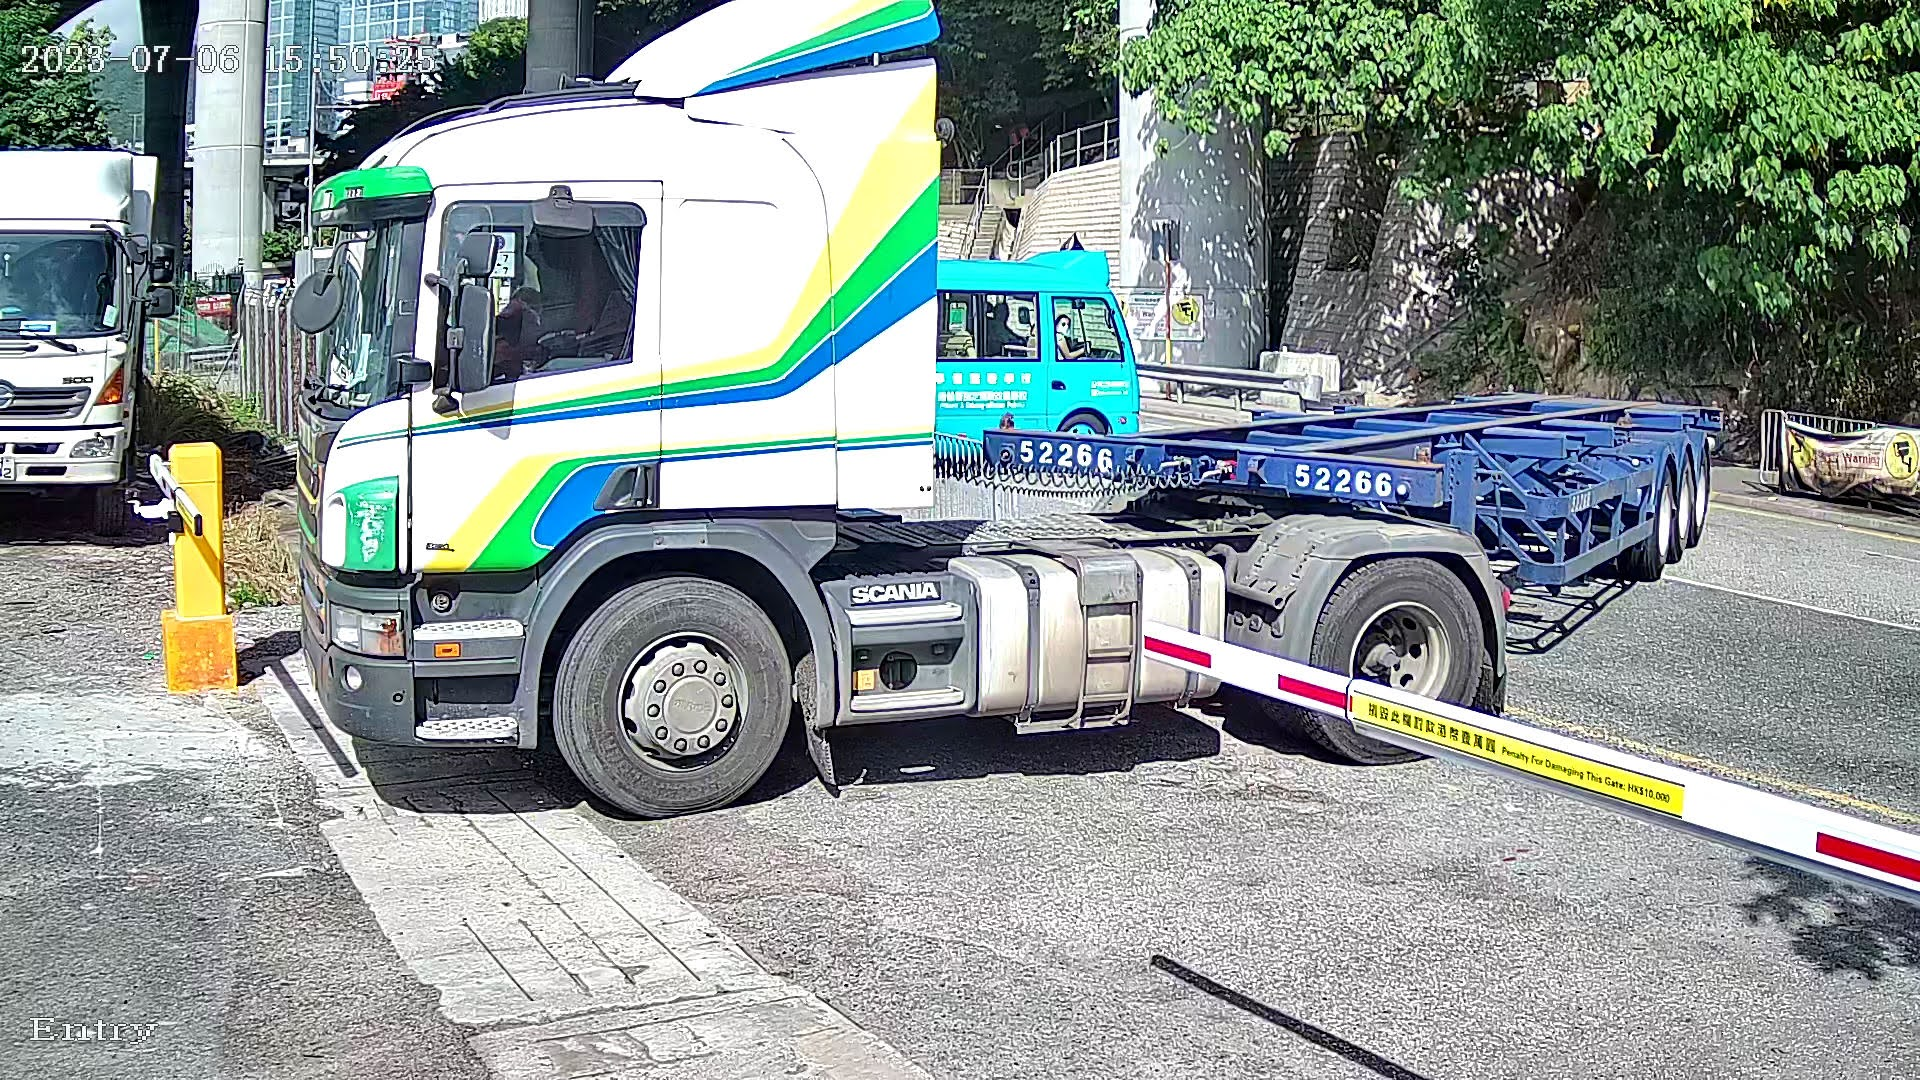truck: (280, 1, 1760, 833)
